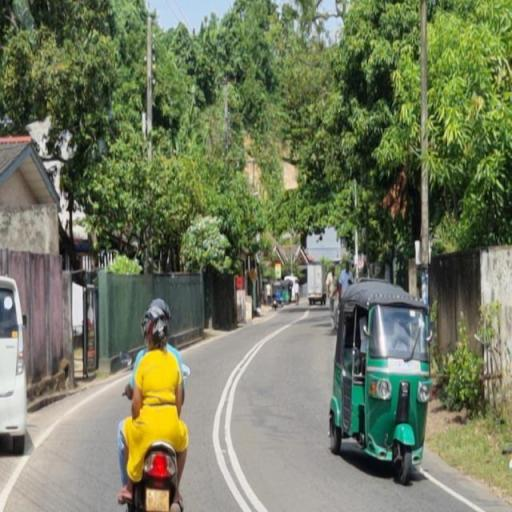double_white_line: (213, 323, 277, 510)
